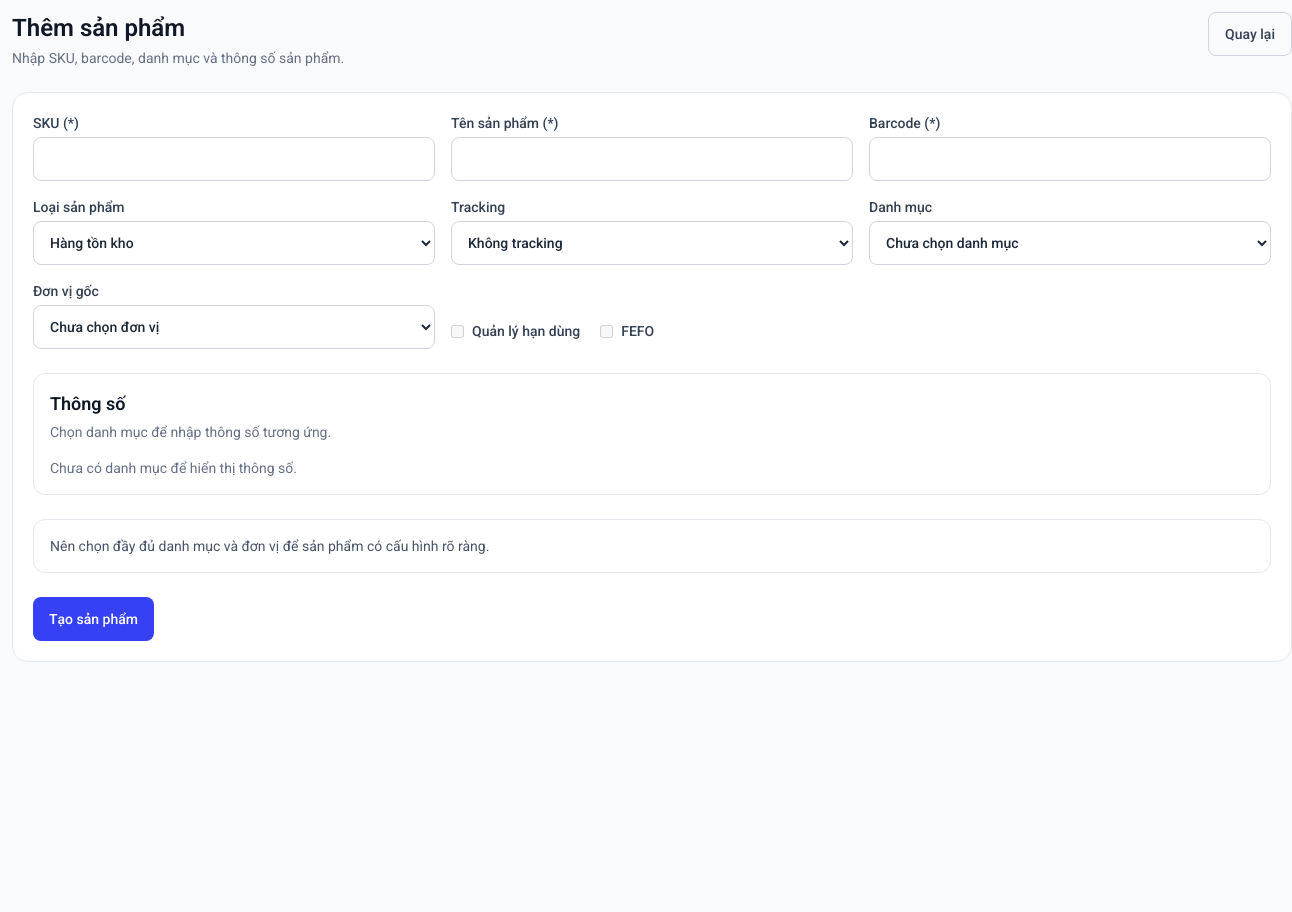
Scenario: ProductsPage › creates a lot-tracked product from a dedicated form screen
Type "SKU-LOT" into the field labelled "SKU (*)" at (234, 159), box x1=33 y1=137 x2=435 y2=181
Type "Hàng theo lô" into the field labelled "Tên sản phẩm (*)" at (652, 159), box x1=451 y1=137 x2=853 y2=181
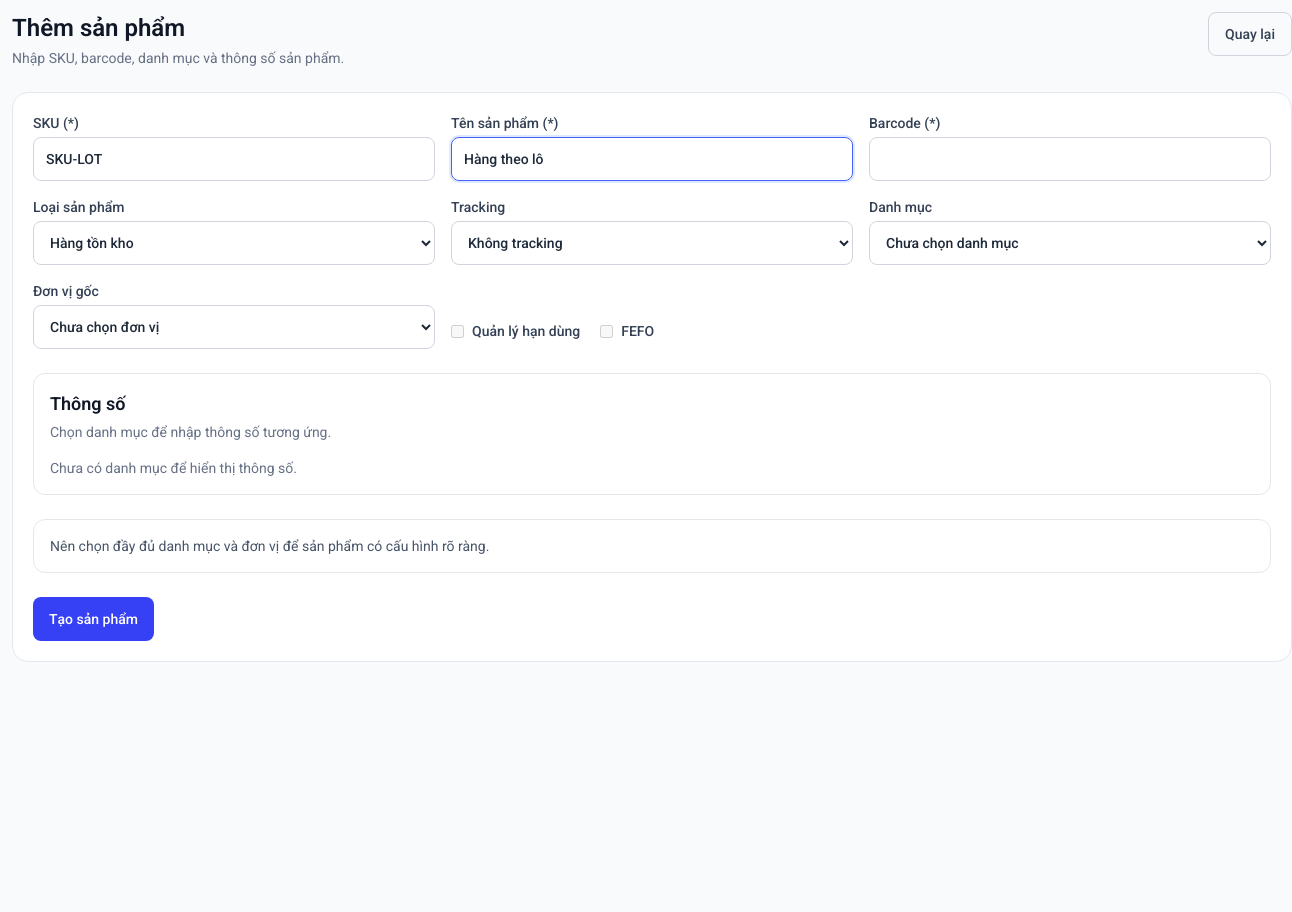
Type "BC-LOT, BC-LOT-2" into the field labelled "Barcode (*)" at (1070, 159), box x1=869 y1=137 x2=1271 y2=181
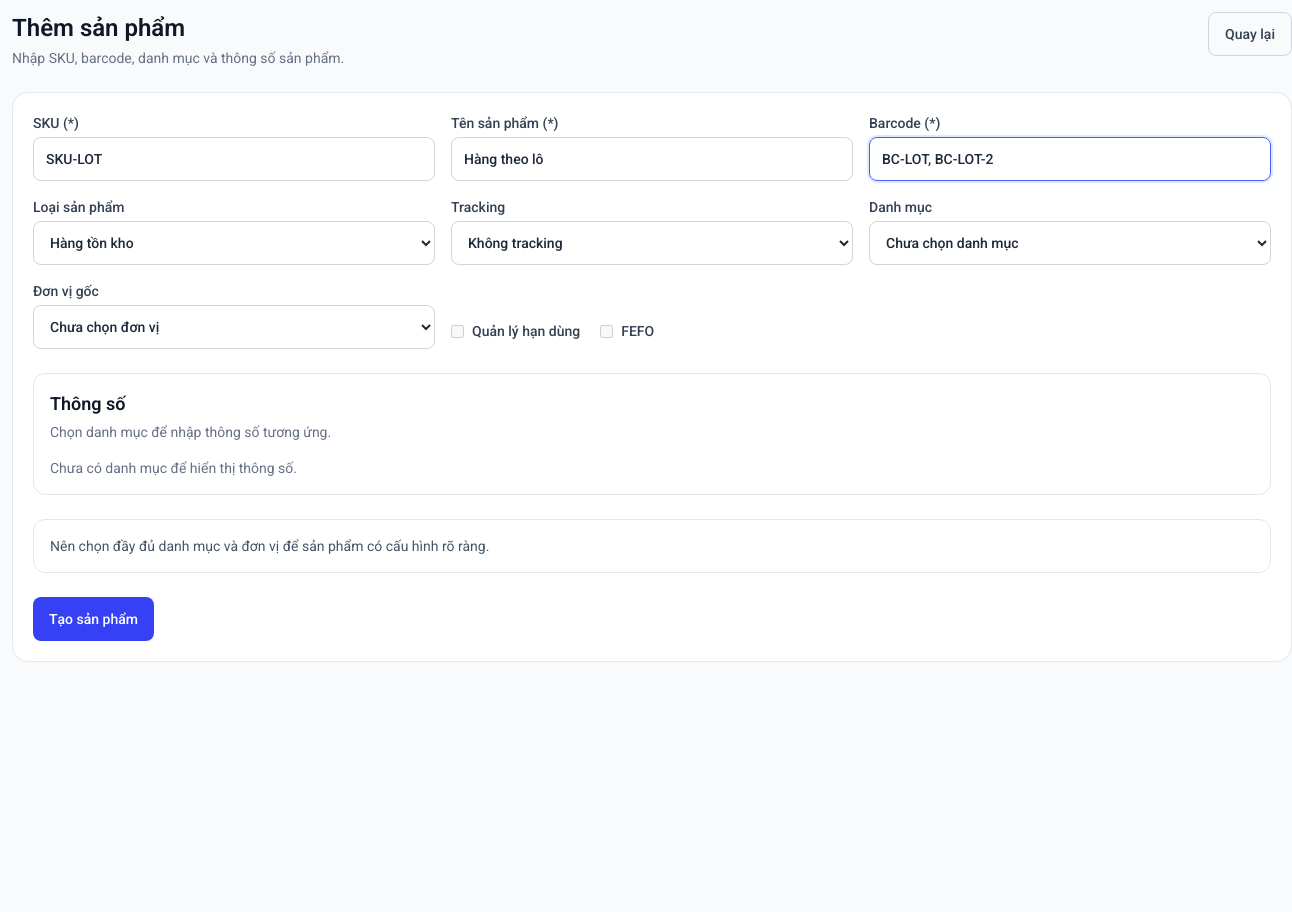
Select "Theo lô" in the dropdown labelled "Tracking" at (652, 243), box x1=451 y1=221 x2=853 y2=265
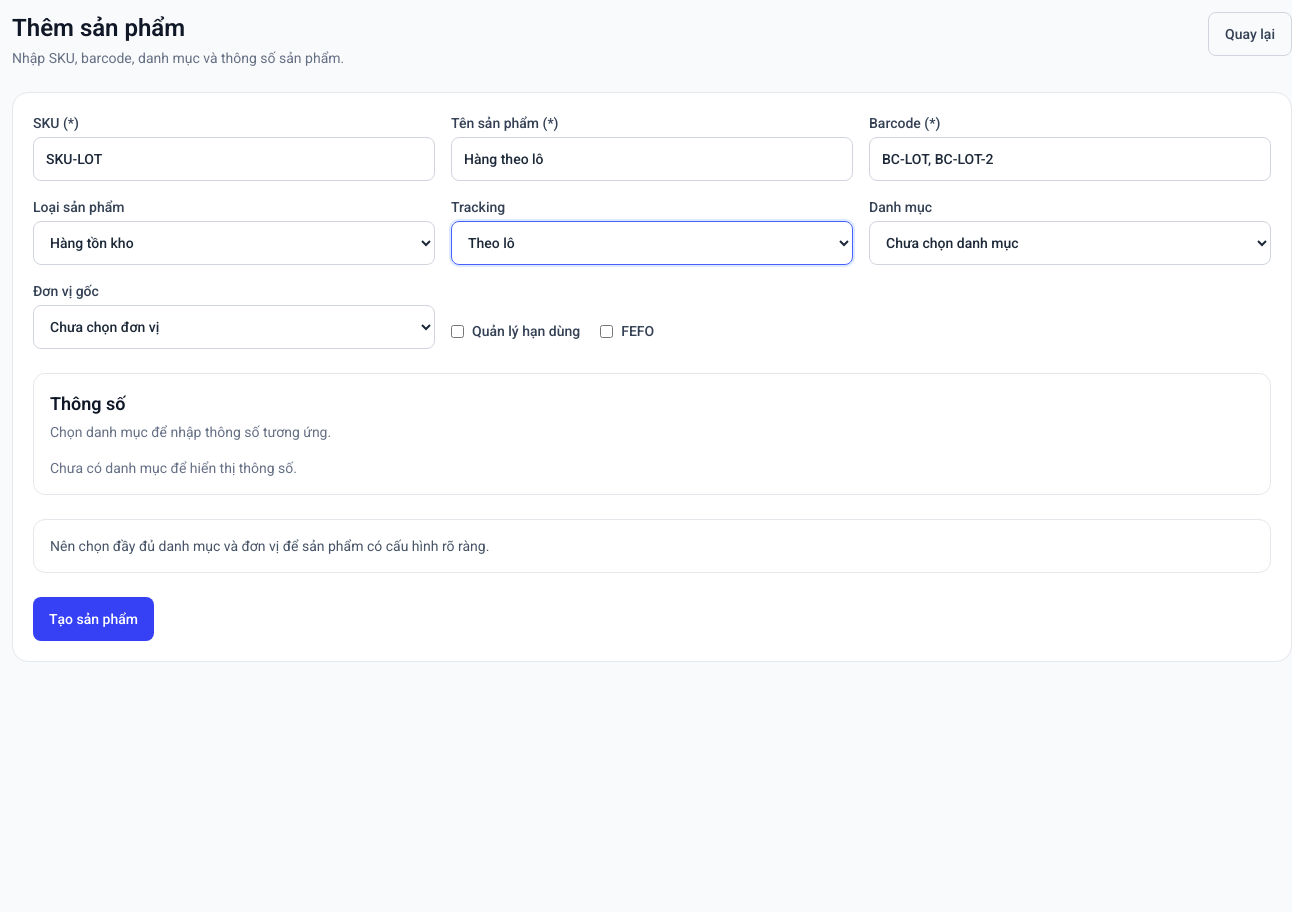
Click the checkbox labelled "Quản lý hạn dùng" at (458, 331), box x1=451 y1=324 x2=464 y2=338
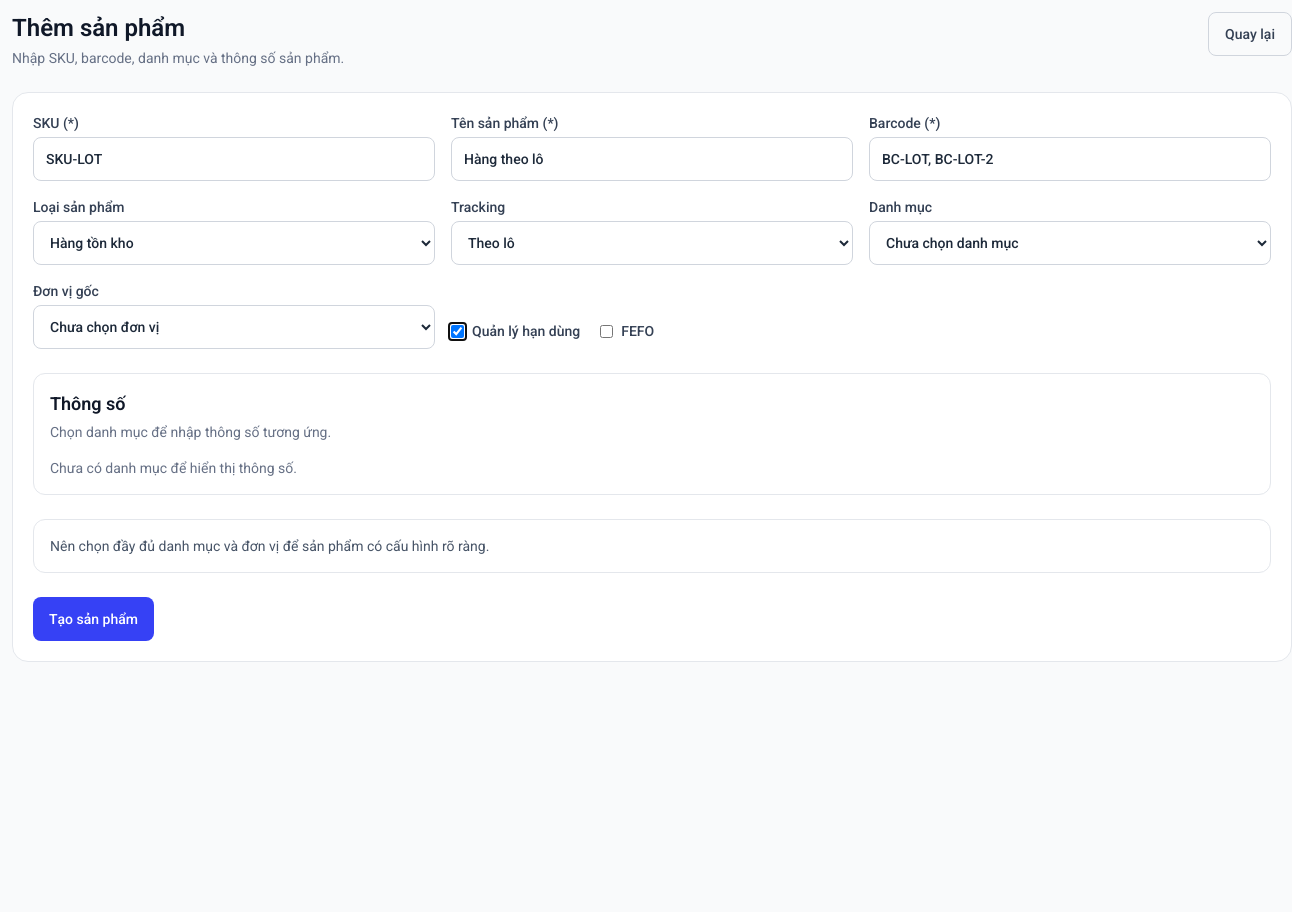
Click the checkbox labelled "FEFO" at (607, 331), box x1=600 y1=324 x2=613 y2=338
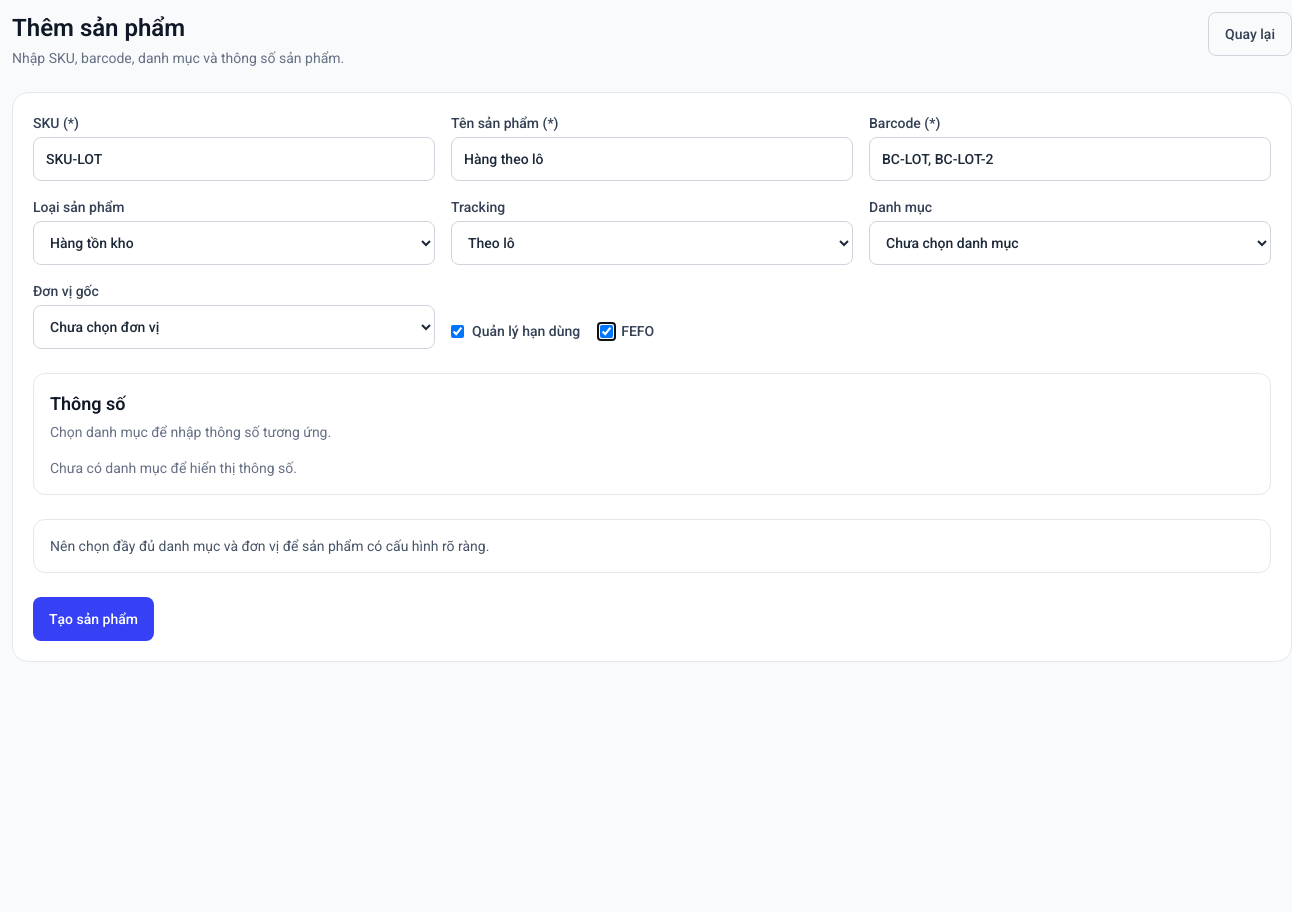
Click the button "Tạo sản phẩm" at (93, 619), box x1=33 y1=597 x2=154 y2=641
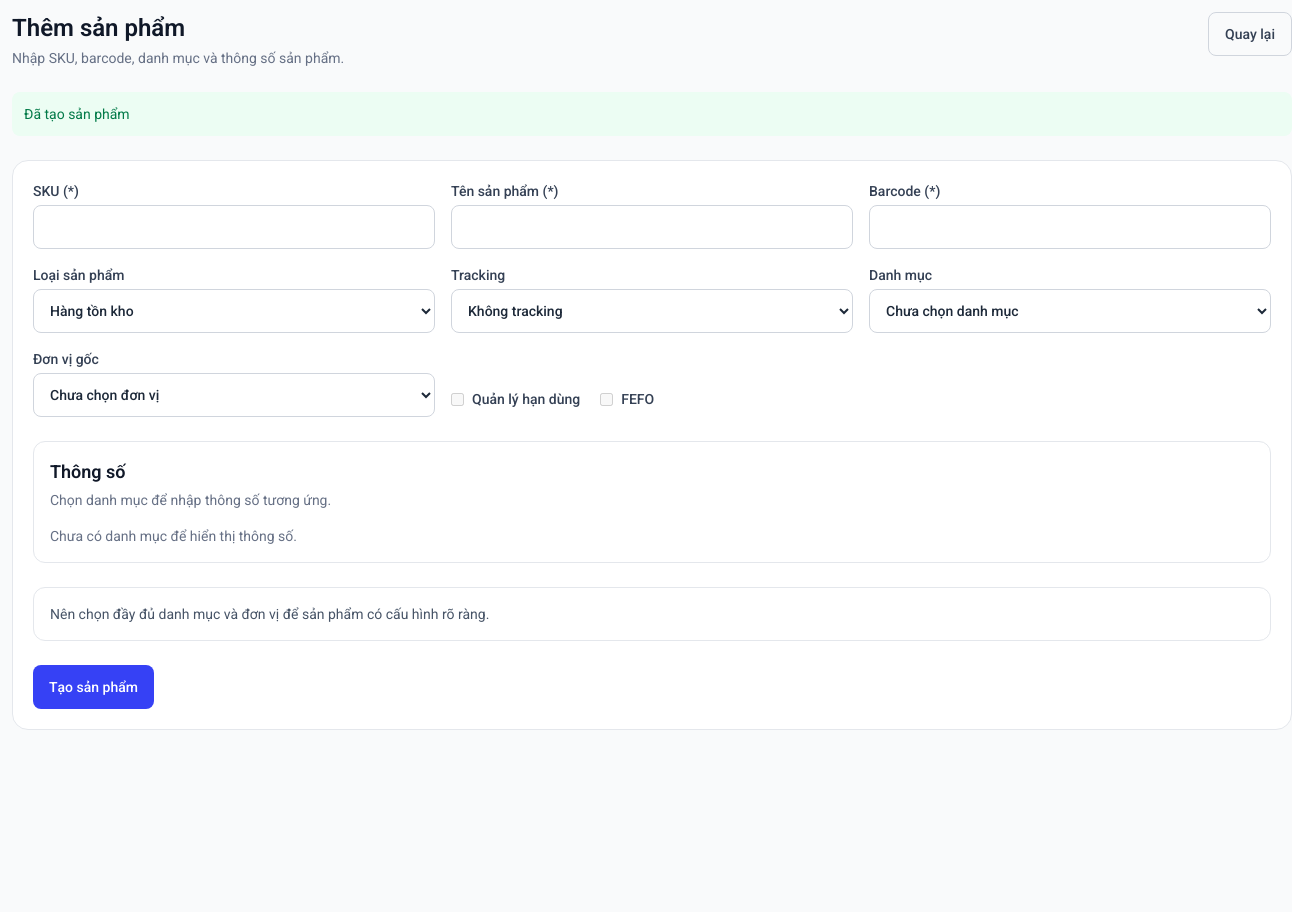
Expected: the text "Đã tạo sản phẩm" is shown, x1=12 y1=92 x2=1291 y2=136
